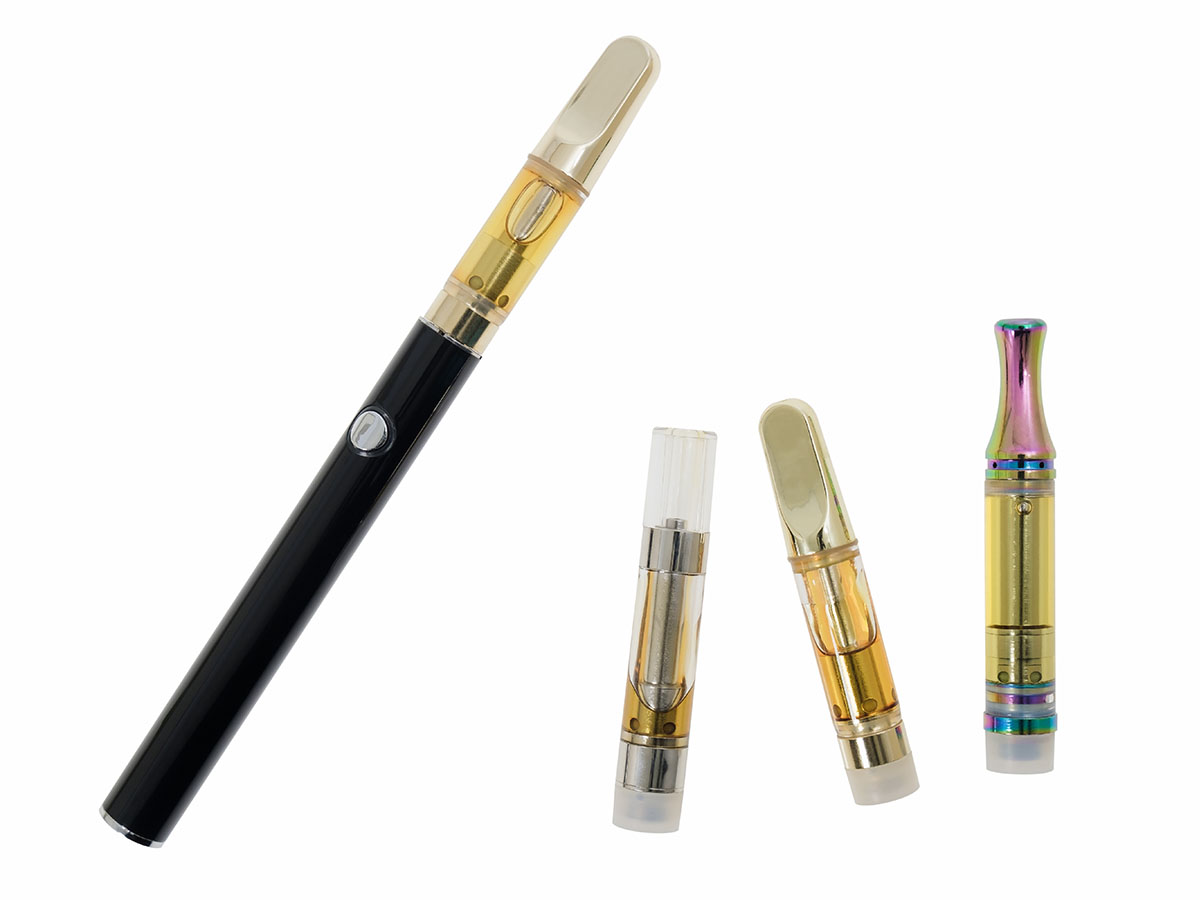weed_pen: (38, 9, 762, 847)
